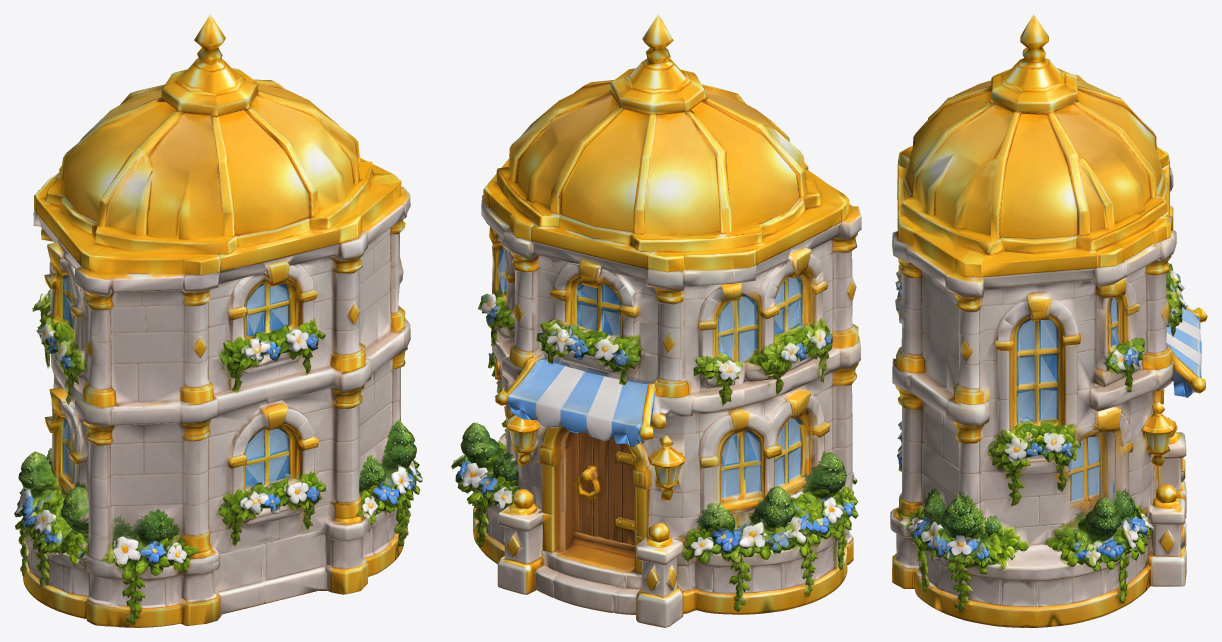
File: HaloDomeHouse_03_parts.glb
3 renders of one model, left to right at view 1: azimuth 30°, elevation 25°; view 2: azimuth 150°, elevation 25°; view 3: azimuth 270°, elevation 25°, orthographic. The views are drawn at different scales.
Parts seen in each view (by area): view 1: HaloDomeHouse_03_Body_t10, HaloDomeHouse_03_Body_t01, HaloDomeHouse_03_Body_t11, HaloDomeHouse_03_Body_t00, HaloDomeHouse_03_Glass, HaloDomeHouse_03_WinPane; view 2: HaloDomeHouse_03_Body_t01, HaloDomeHouse_03_Body_t11, HaloDomeHouse_03_Body_t10, HaloDomeHouse_03_Body_t00, HaloDomeHouse_03_Awning, HaloDomeHouse_03_Glass, HaloDomeHouse_03_WinPane, HaloDomeHouse_03_Door; view 3: HaloDomeHouse_03_Body_t11, HaloDomeHouse_03_Body_t01, HaloDomeHouse_03_Body_t10, HaloDomeHouse_03_Body_t00, HaloDomeHouse_03_WinPane, HaloDomeHouse_03_Glass, HaloDomeHouse_03_Awning.
Boxes of the visible parts, x1,y1,x2,y2 form: HaloDomeHouse_03_Body_t10: [14, 157, 416, 625]; HaloDomeHouse_03_Body_t01: [17, 69, 419, 626]; HaloDomeHouse_03_Body_t11: [14, 14, 422, 627]; HaloDomeHouse_03_Body_t00: [17, 58, 416, 618]; HaloDomeHouse_03_Glass: [61, 277, 288, 485]; HaloDomeHouse_03_WinPane: [61, 278, 288, 486]; HaloDomeHouse_03_Body_t01: [457, 84, 857, 614]; HaloDomeHouse_03_Body_t11: [479, 14, 861, 614]; HaloDomeHouse_03_Body_t10: [456, 94, 857, 627]; HaloDomeHouse_03_Body_t00: [451, 59, 858, 612]; HaloDomeHouse_03_Awning: [495, 325, 666, 447]; HaloDomeHouse_03_Glass: [497, 252, 801, 499]; HaloDomeHouse_03_WinPane: [496, 251, 801, 498]; HaloDomeHouse_03_Door: [535, 443, 644, 614]; HaloDomeHouse_03_Body_t11: [895, 14, 1187, 627]; HaloDomeHouse_03_Body_t01: [890, 68, 1178, 627]; HaloDomeHouse_03_Body_t10: [892, 98, 1186, 626]; HaloDomeHouse_03_Body_t00: [892, 58, 1186, 615]; HaloDomeHouse_03_WinPane: [1016, 297, 1118, 501]; HaloDomeHouse_03_Glass: [1016, 297, 1117, 501]; HaloDomeHouse_03_Awning: [1160, 273, 1207, 397].
Bounding box in the file's own units: 16.38 × 23.34 × 12.61.
Materials: 9 (8 with a texture image).
